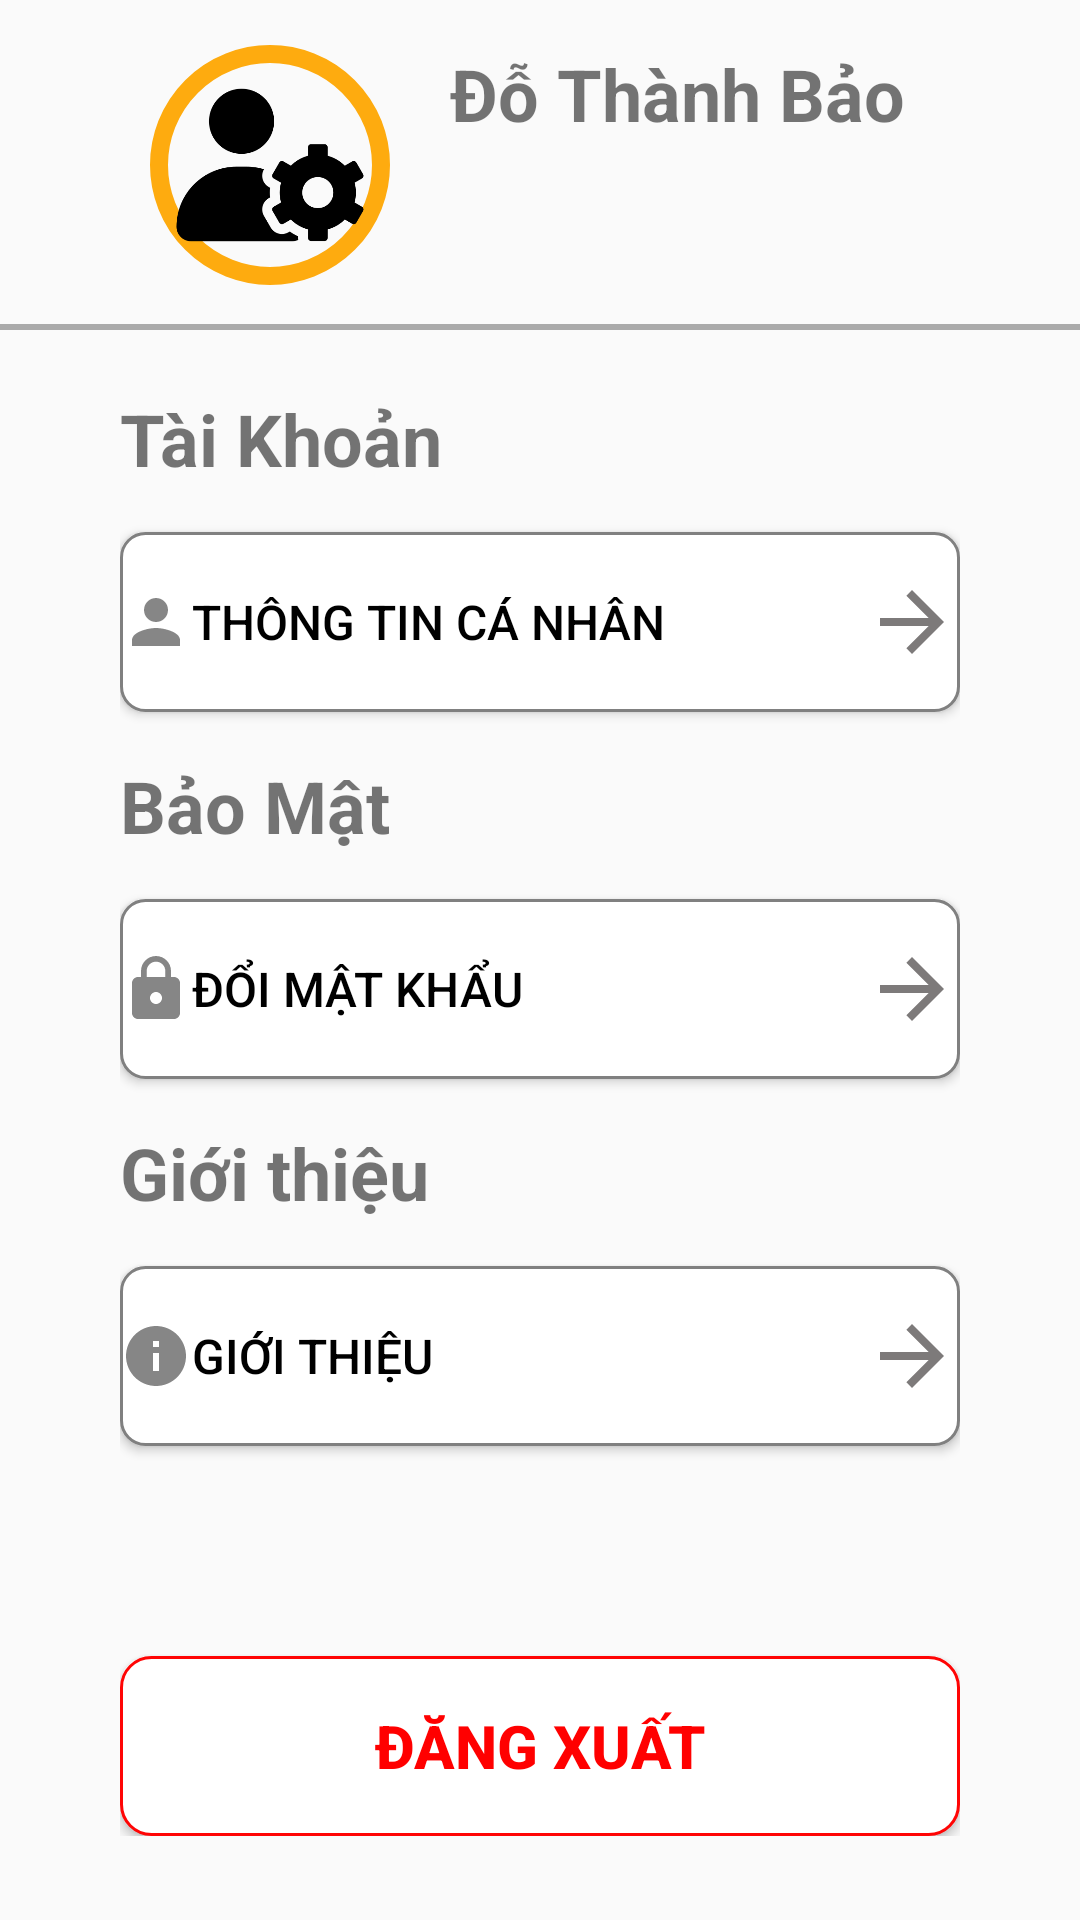

Icons on this 1080px x 1920px Android screen, each with its box as [x1,y1,x2,y2]:
usernhanvien: [150,45,390,285]
